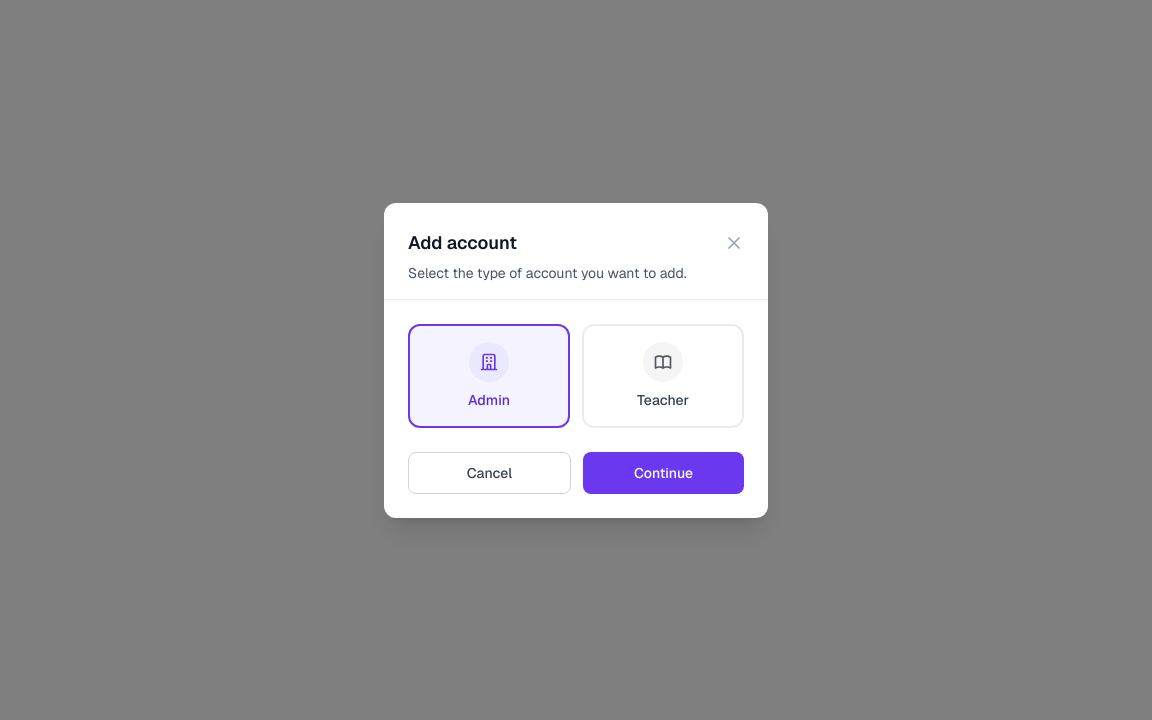
it: AddAccountModal › should advance to credentials step on Continue
Click the button "Continue": (664, 472) [583,452,744,494]
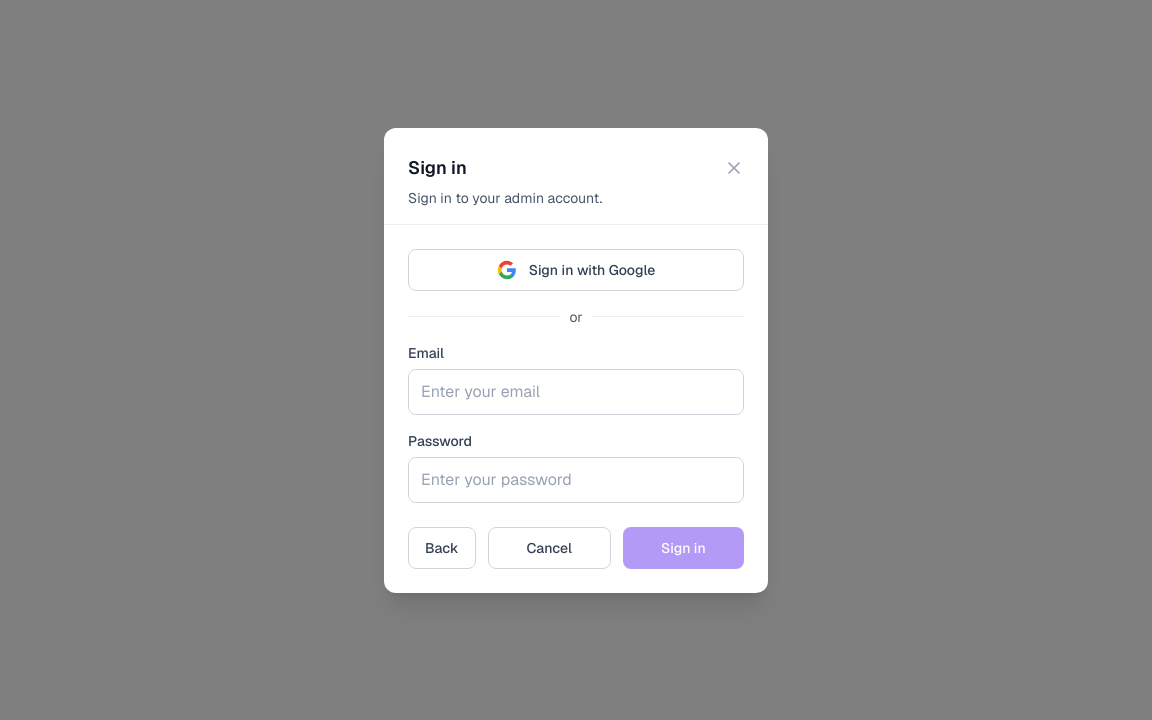
Now the heading "Sign in" is shown, box [408,154,467,182]
Now the field with placeholder "Enter your email" is shown, box [408,368,744,414]
Now the password field with placeholder "Enter your password" is shown, box [408,456,744,502]
